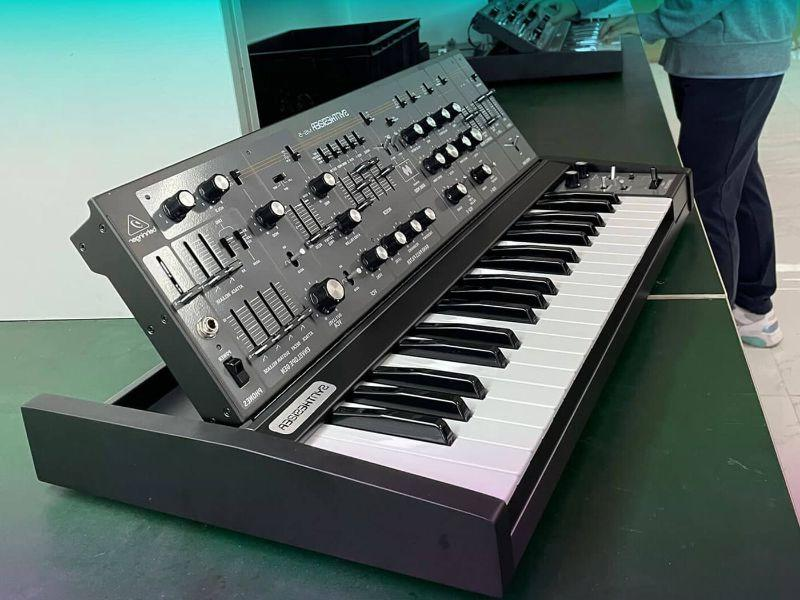synthesizer: (28, 101, 728, 556)
